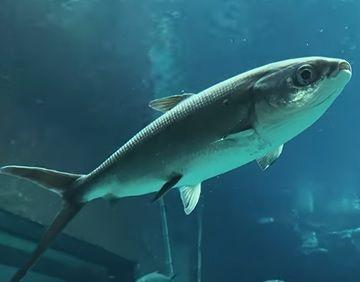Bangus: (2, 54, 351, 282)
